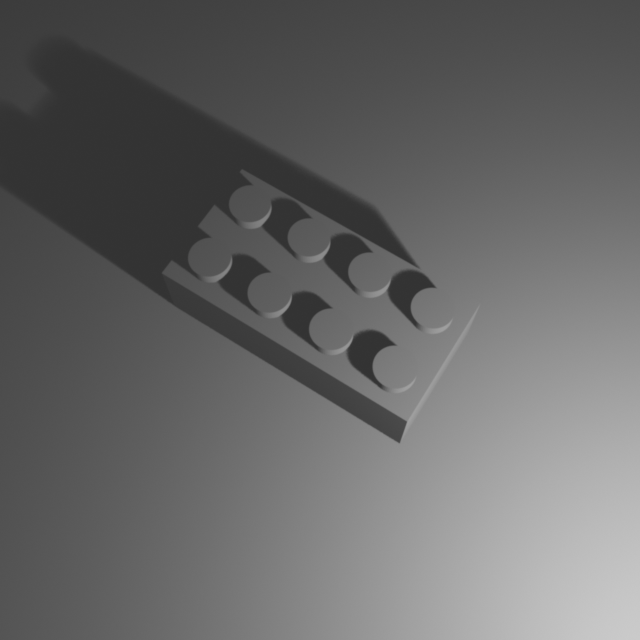lego_2x4: (159, 162, 483, 444)
